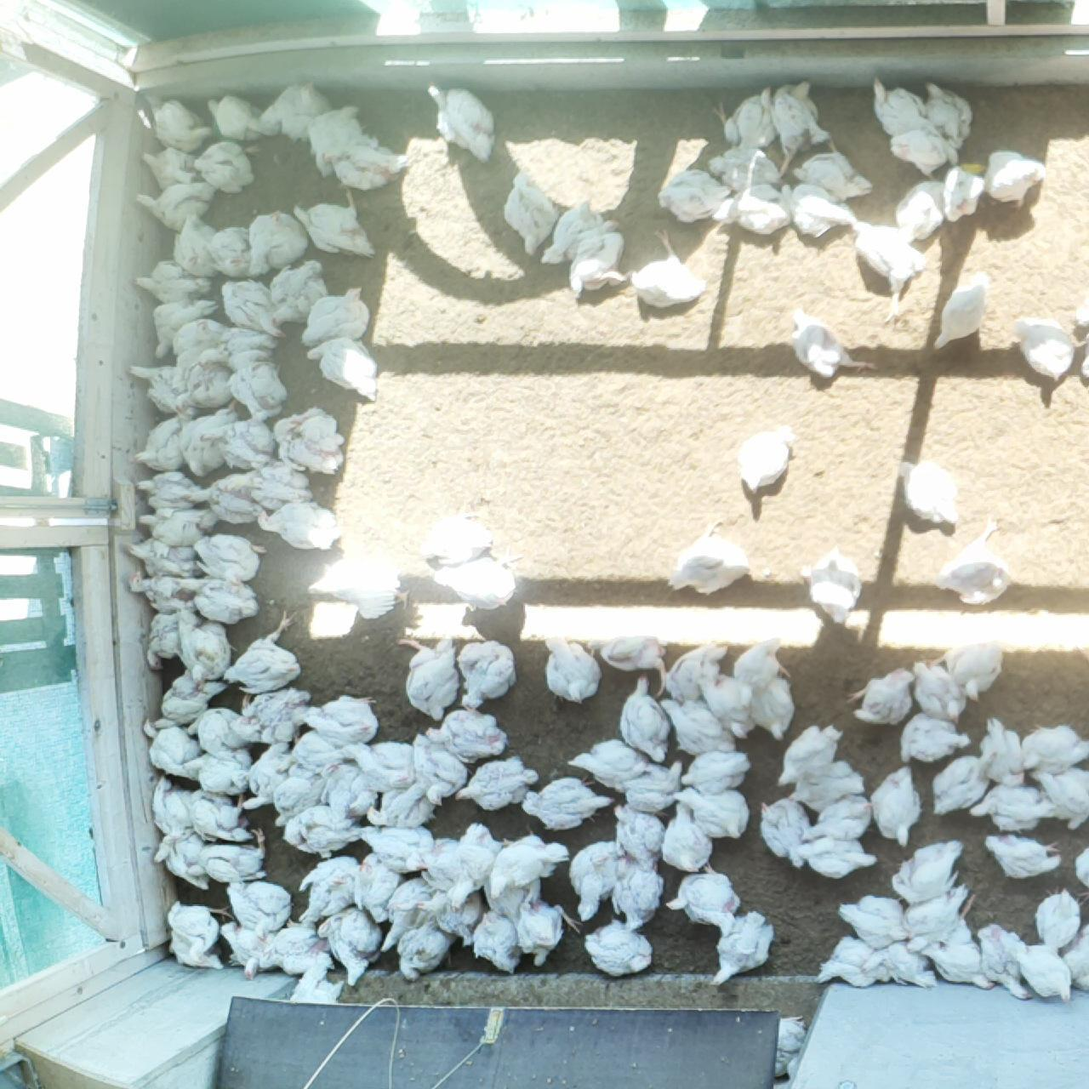chicken: (934, 510, 1010, 608), (852, 221, 929, 311), (769, 79, 832, 185), (665, 522, 750, 597), (790, 306, 876, 380), (308, 558, 409, 620), (733, 639, 795, 740), (225, 612, 301, 694), (433, 544, 523, 611), (632, 230, 704, 309), (486, 828, 569, 895), (798, 543, 864, 625), (428, 83, 495, 163), (294, 191, 375, 257), (664, 862, 740, 932), (522, 773, 613, 830), (307, 105, 379, 177), (398, 636, 459, 720), (569, 217, 633, 297), (318, 908, 381, 989), (901, 887, 978, 950), (273, 407, 344, 475), (714, 181, 793, 242), (867, 77, 932, 150), (659, 698, 737, 758), (710, 911, 773, 985), (503, 170, 557, 256), (780, 180, 857, 240), (167, 900, 233, 970), (925, 641, 1003, 700), (929, 272, 991, 346), (296, 693, 379, 748), (152, 669, 228, 729), (322, 141, 413, 191), (967, 783, 1059, 832), (454, 756, 539, 809), (619, 675, 670, 763), (516, 900, 582, 968), (796, 150, 879, 204), (715, 87, 779, 157), (307, 339, 378, 402), (891, 842, 963, 904), (425, 710, 508, 763), (273, 763, 341, 827), (259, 82, 334, 140), (297, 855, 360, 924), (567, 739, 647, 793), (657, 168, 735, 223), (978, 922, 1032, 1001), (282, 804, 361, 858), (381, 875, 435, 954), (569, 841, 622, 921), (599, 635, 666, 698), (870, 766, 922, 847), (190, 830, 269, 883), (185, 473, 267, 524), (706, 143, 779, 200), (819, 935, 896, 989), (777, 724, 843, 787), (458, 640, 517, 710), (899, 462, 960, 529), (1014, 312, 1074, 380), (135, 184, 216, 234), (542, 199, 603, 265), (848, 667, 915, 727), (145, 95, 214, 153), (413, 733, 467, 807), (227, 879, 291, 941), (738, 424, 793, 496), (257, 503, 339, 551), (301, 288, 370, 345), (584, 920, 653, 977), (248, 211, 310, 274), (889, 126, 960, 181), (837, 894, 908, 949), (980, 149, 1046, 208), (1030, 763, 1089, 829), (186, 708, 259, 761), (611, 858, 664, 931), (917, 78, 972, 148), (930, 755, 994, 815), (396, 918, 455, 983), (200, 419, 275, 470), (545, 636, 602, 703), (178, 577, 259, 624), (242, 689, 311, 744), (664, 642, 727, 702), (359, 824, 433, 875), (152, 299, 218, 356), (760, 797, 812, 869), (343, 742, 419, 791), (221, 279, 285, 337), (790, 763, 864, 813), (675, 788, 749, 838), (367, 779, 438, 831), (921, 940, 996, 989), (899, 713, 971, 764), (421, 516, 493, 567), (484, 865, 541, 929), (271, 260, 327, 325), (978, 717, 1031, 785), (614, 804, 667, 872), (662, 801, 712, 873), (220, 921, 282, 979), (142, 719, 199, 782), (862, 941, 938, 988), (242, 743, 296, 809), (984, 835, 1063, 880), (228, 361, 288, 420), (265, 921, 328, 977), (700, 676, 756, 739), (354, 852, 403, 924), (796, 835, 876, 879), (470, 909, 521, 977), (912, 662, 967, 725), (1015, 944, 1072, 1004), (180, 409, 231, 476), (431, 881, 482, 948), (176, 623, 232, 683), (154, 831, 209, 892), (191, 790, 254, 843), (216, 327, 287, 374), (1020, 725, 1089, 773), (194, 141, 254, 196), (138, 506, 216, 548), (801, 797, 873, 842), (194, 534, 260, 583), (128, 537, 205, 579), (457, 821, 499, 898), (895, 180, 947, 242), (145, 612, 200, 670), (175, 363, 234, 417), (286, 744, 351, 793), (424, 838, 470, 907), (622, 761, 683, 813), (136, 260, 209, 303), (184, 750, 252, 796), (130, 365, 191, 416), (322, 765, 380, 818), (173, 214, 221, 277), (250, 466, 313, 514), (128, 572, 200, 614), (680, 753, 752, 795), (174, 318, 228, 373), (151, 777, 196, 843), (131, 419, 186, 472), (1035, 889, 1081, 951), (209, 226, 261, 280), (289, 955, 344, 1005), (208, 95, 265, 142), (141, 148, 203, 191), (135, 471, 197, 512), (943, 165, 988, 221), (772, 1018, 806, 1078), (1063, 922, 1089, 995), (1073, 291, 1089, 385), (1074, 845, 1089, 890)
